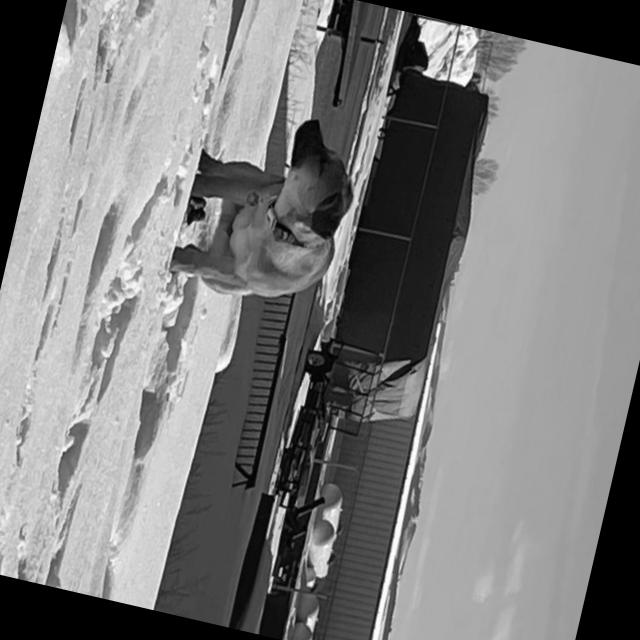squatting: (158, 86, 373, 339)
